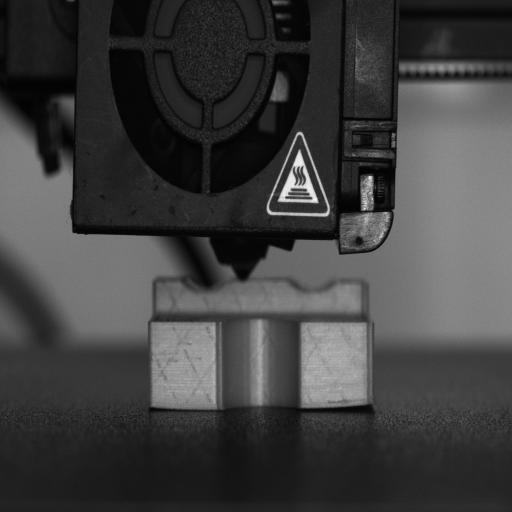warp: (315, 390, 380, 416)
